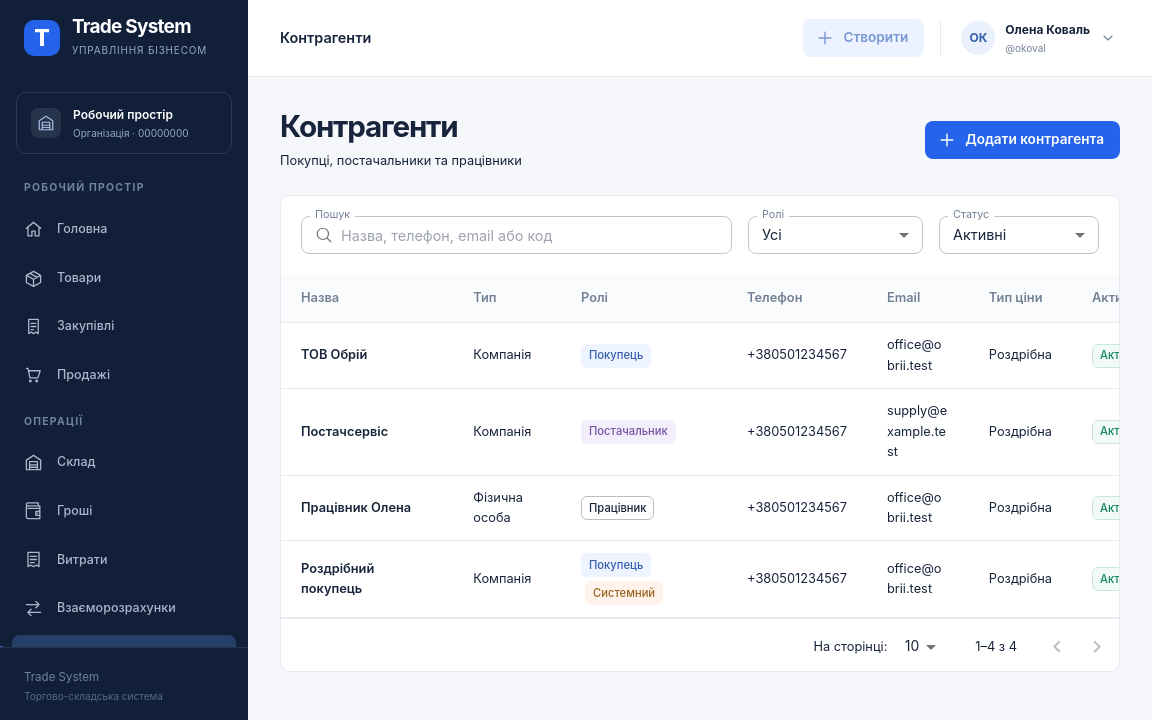
Test: Counterparty UI › filters Працівники using the existing role flags
Expected: the link "ТОВ Обрій" is shown, [301,347,367,362]
Click the dropdown named "Ролі". click: coordinates (772, 234)
box: [762,226,782,243]
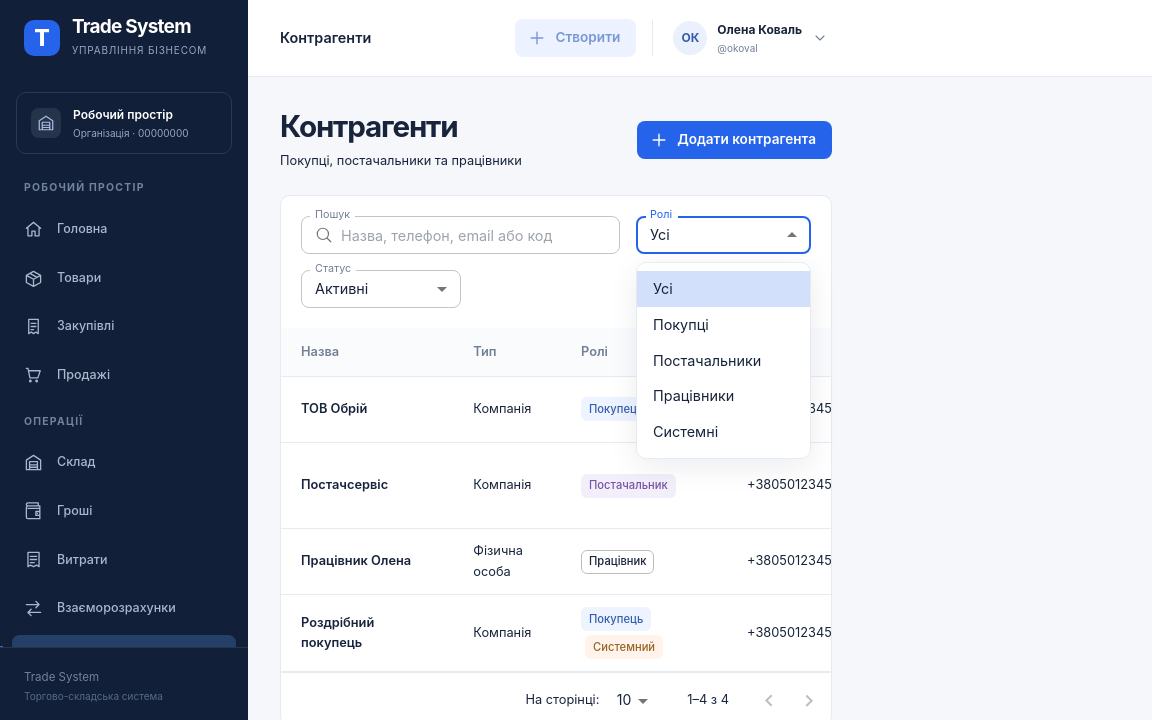
Click the option "Працівники". click: coordinates (694, 396)
box: [653,387,734,404]
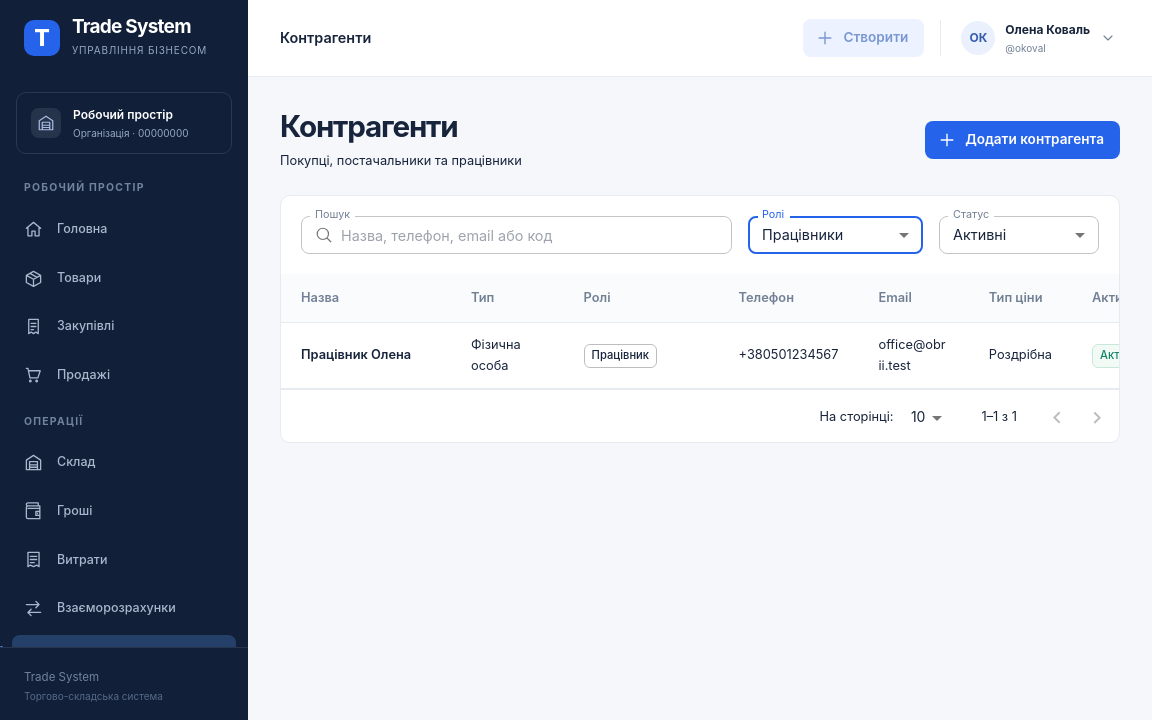
Expected: the link "Працівник Олена" is shown, [301,347,411,362]
Result: the link "ТОВ Обрій" is gone
